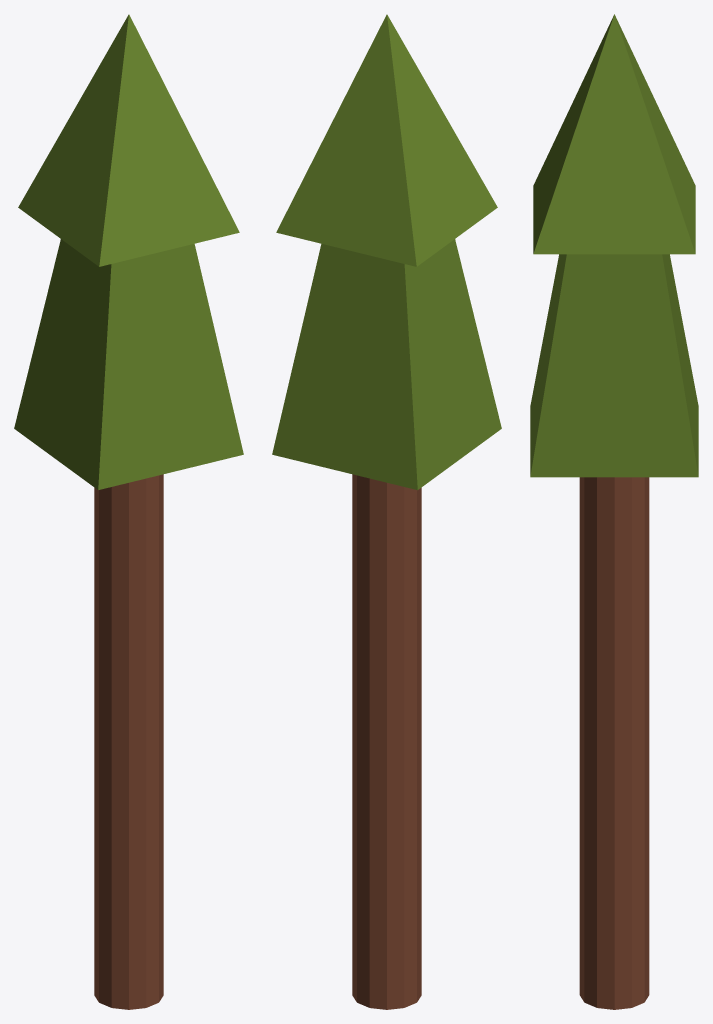
Rendered from Tree_16_autumn_mat.fbx.
The picture shows the model from 3 angles, left to right: view 1: azimuth 30°, elevation 25°; view 2: azimuth 150°, elevation 25°; view 3: azimuth 270°, elevation 25°; orthographic projection.
Parts seen in each view (by area): view 1: Tree_16_autumn_mat; view 2: Tree_16_autumn_mat; view 3: Tree_16_autumn_mat.
Part boxes in pixels (x1,y1,x2,y2): Tree_16_autumn_mat: [14, 14, 243, 1009]; Tree_16_autumn_mat: [272, 14, 501, 1009]; Tree_16_autumn_mat: [530, 14, 698, 1009].
Size of the model in its own units: 2.15 by 13.81 by 2.15.
